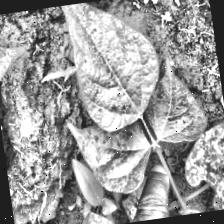ALS: (63, 0, 166, 136), (67, 99, 158, 208), (0, 12, 39, 158), (142, 60, 208, 144), (175, 110, 224, 214), (72, 211, 116, 224)
